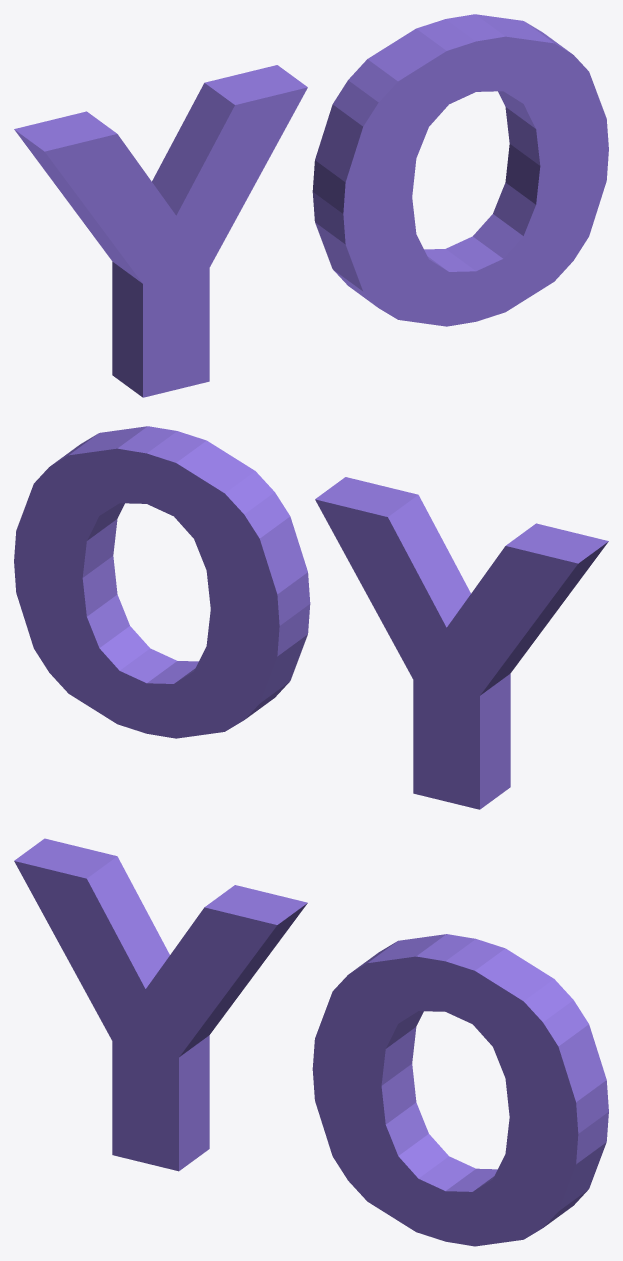
Rendered from suku_besar_yo.glb.
3 views of the same model, one above another, from view 1: azimuth 30°, elevation 25°; view 2: azimuth 150°, elevation 25°; view 3: azimuth 330°, elevation 25° (orthographic).
Visible parts, largest first — view 1: geometry_0; view 2: geometry_0; view 3: geometry_0.
Part boxes in pixels (x1,y1,x2,y2): geometry_0: (14, 14, 608, 397); geometry_0: (14, 426, 608, 809); geometry_0: (14, 838, 608, 1246).
Size of the model in its own units: 15.93 by 7.56 by 1.5.
